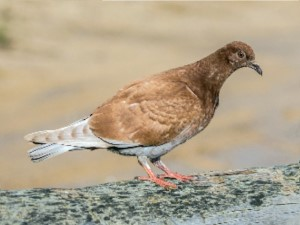pigeon: (23, 38, 264, 189)
